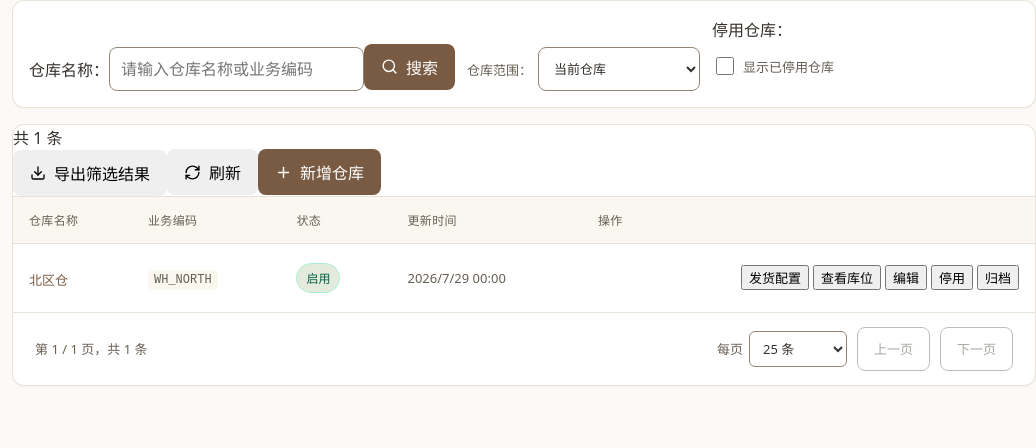
Test: WarehouseCenterPage › announces a bounded recovery message when warehouse export is too large
Expected: the text "WH_NORTH" is shown, [148,270,218,290]
Click the button "导出筛选结果" at (90, 172), box [13,150,167,196]
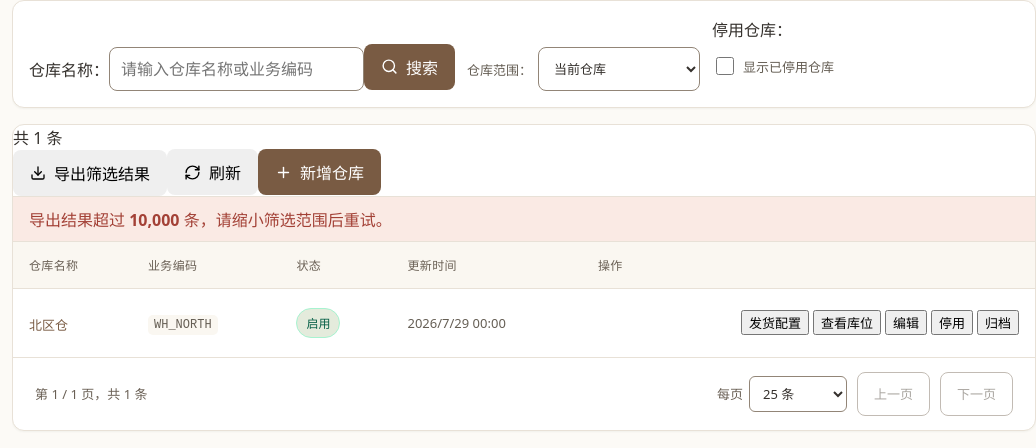
Expected: the message reads "导出结果超过 10,000 条，请缩小筛选范围后重试。", [29,208,392,230]
